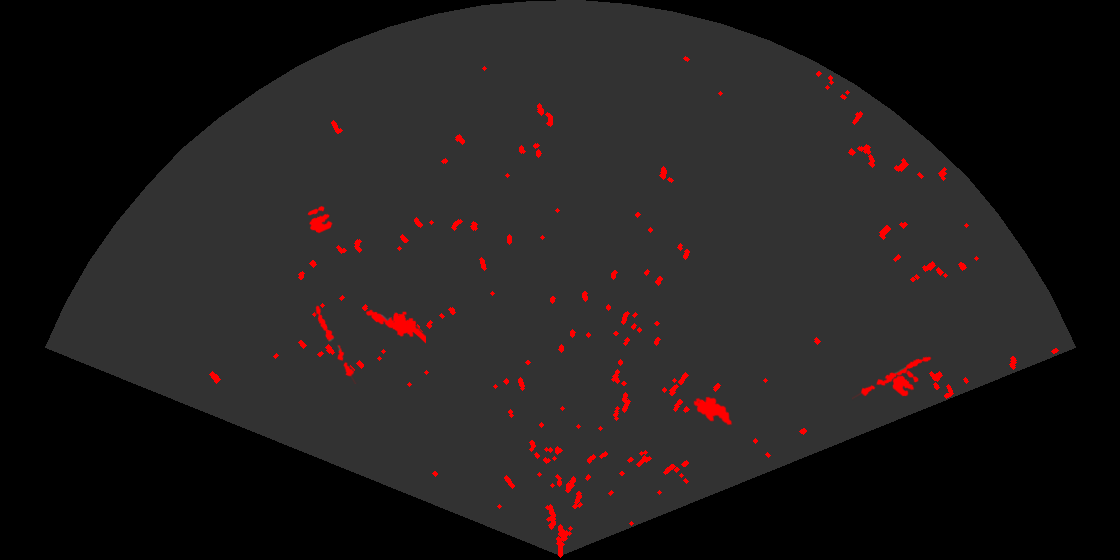AUV: (692, 395, 734, 427)
ball: (891, 368, 920, 398), (306, 204, 334, 235)
chain: (852, 355, 933, 401), (314, 304, 358, 384)
frogman: (364, 308, 426, 345)
